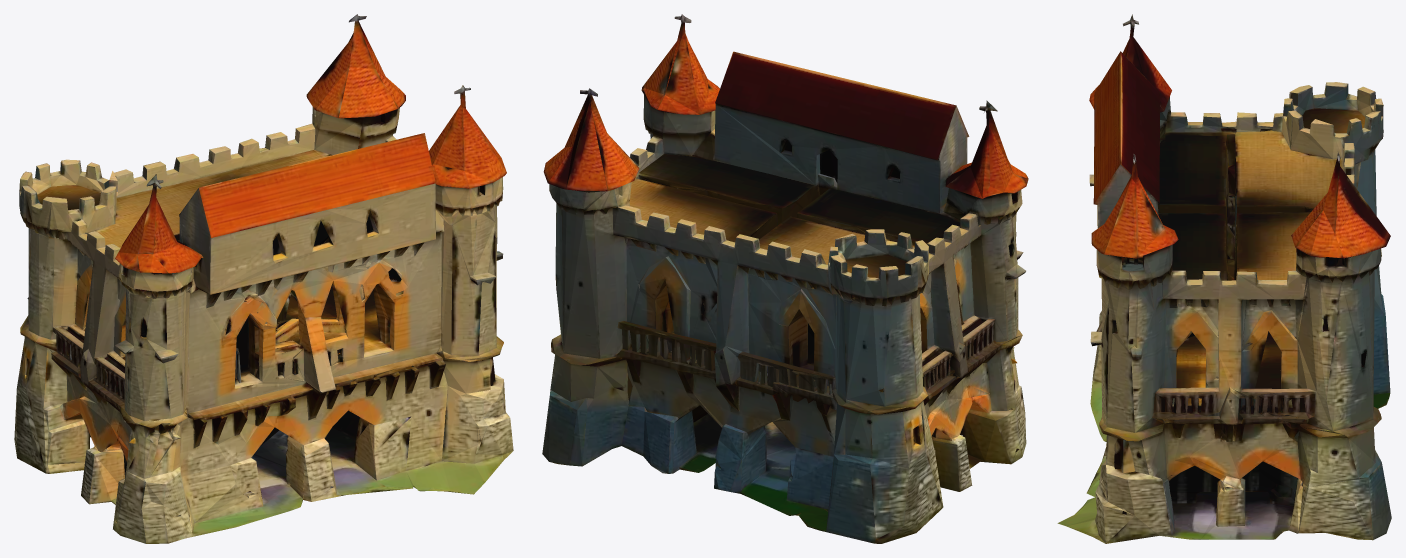
File: landmark_destroyed_watchtower.glb
The picture shows the model from 3 angles, left to right: view 1: azimuth 30°, elevation 25°; view 2: azimuth 150°, elevation 25°; view 3: azimuth 270°, elevation 25°; orthographic projection. The views are drawn at different scales.
Visible parts, largest first — view 1: geometry_0; view 2: geometry_0; view 3: geometry_0.
Part boxes in pixels (bbox=[...]): geometry_0: bbox=[14, 14, 513, 543]; geometry_0: bbox=[542, 14, 1028, 543]; geometry_0: bbox=[1057, 14, 1391, 543].
Bounding box in the file's own units: 0.9981 × 0.9339 × 0.7389.
1 material, 1 textured.
